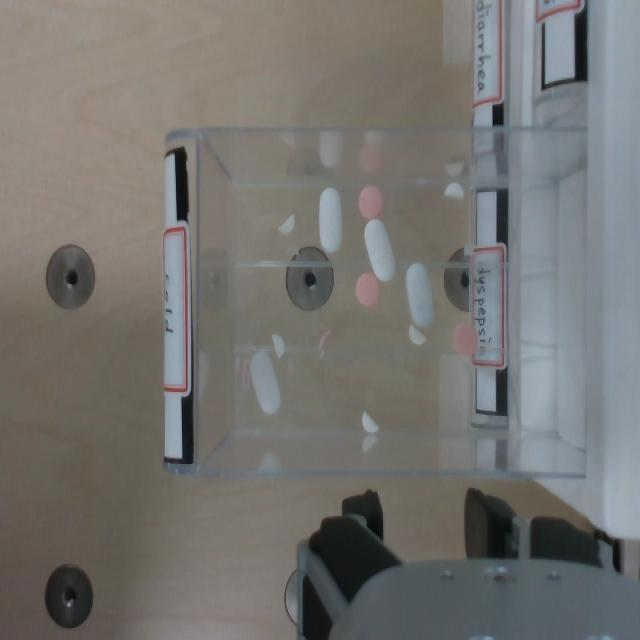amoxicle_tab: (250, 349, 280, 415), (364, 219, 395, 281), (406, 263, 433, 328), (319, 188, 342, 253)
panstar_tab: (358, 185, 383, 220), (355, 272, 380, 307), (453, 323, 476, 355)
sudafed_tab: (362, 411, 378, 433), (444, 181, 463, 199), (408, 324, 425, 344), (278, 215, 294, 233), (272, 335, 284, 357)
